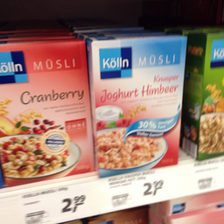cereal: (86, 34, 188, 179), (1, 36, 95, 188)
